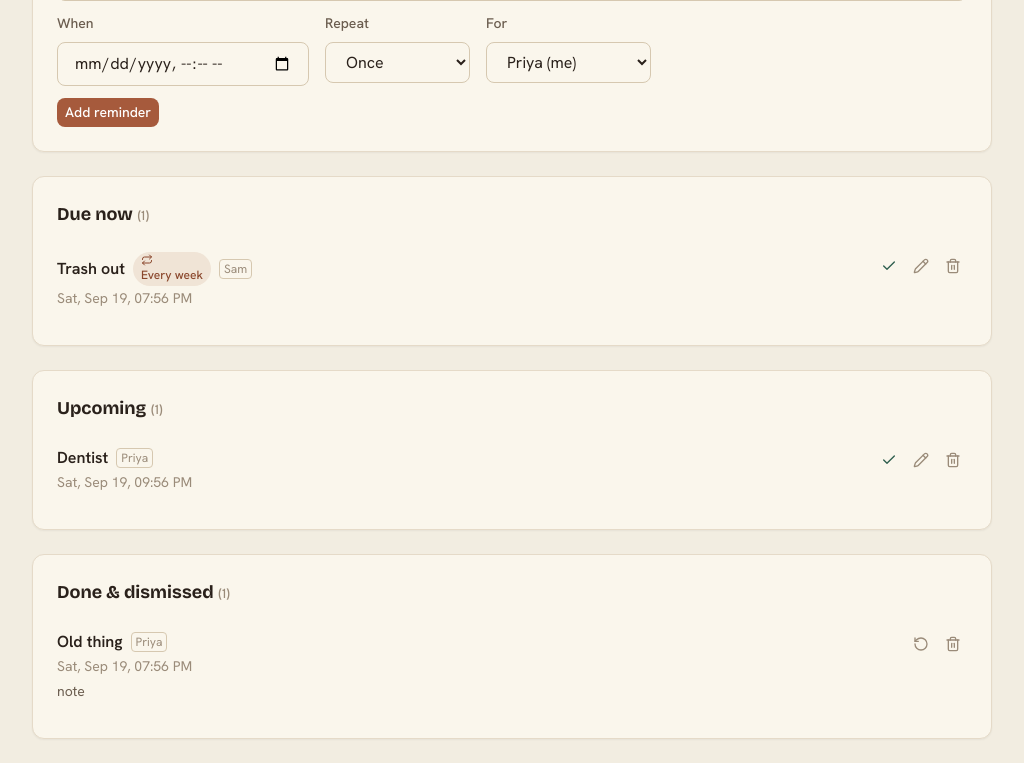
Test: RemindersPage › row actions › cancels an inline edit
(page scrolled)
Click the button named "Edit" in the row of "Dentist".
click(921, 460)  # box [907, 446, 935, 474]
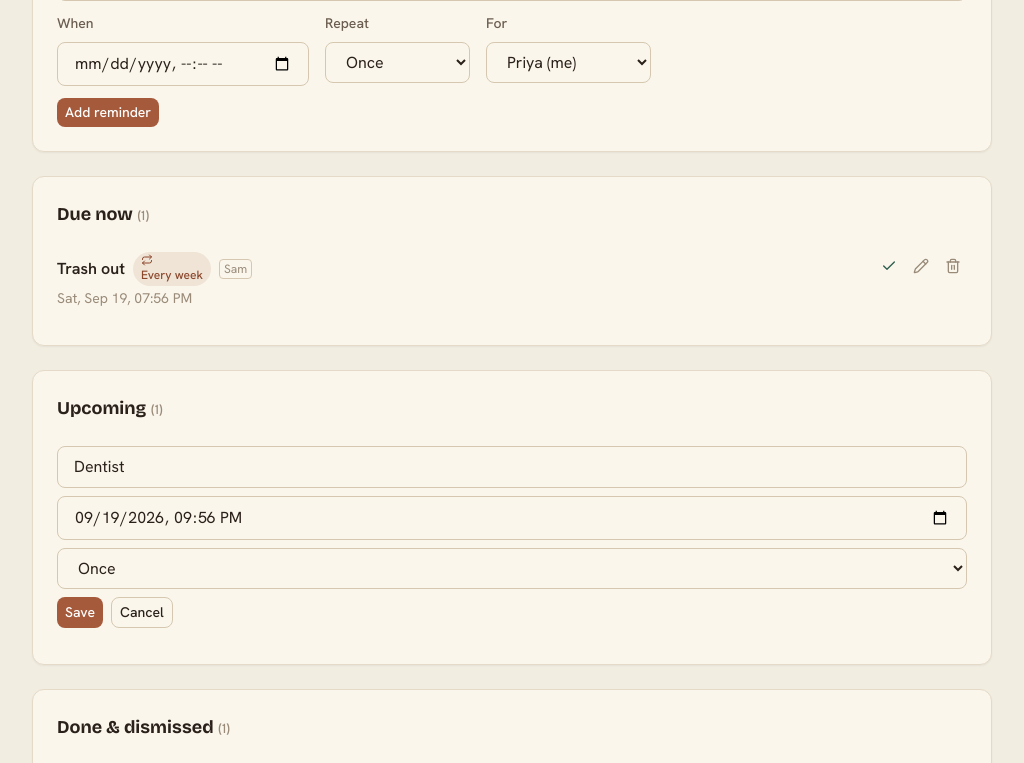
Click the button "Cancel".
click(142, 612)  # box [111, 597, 173, 628]
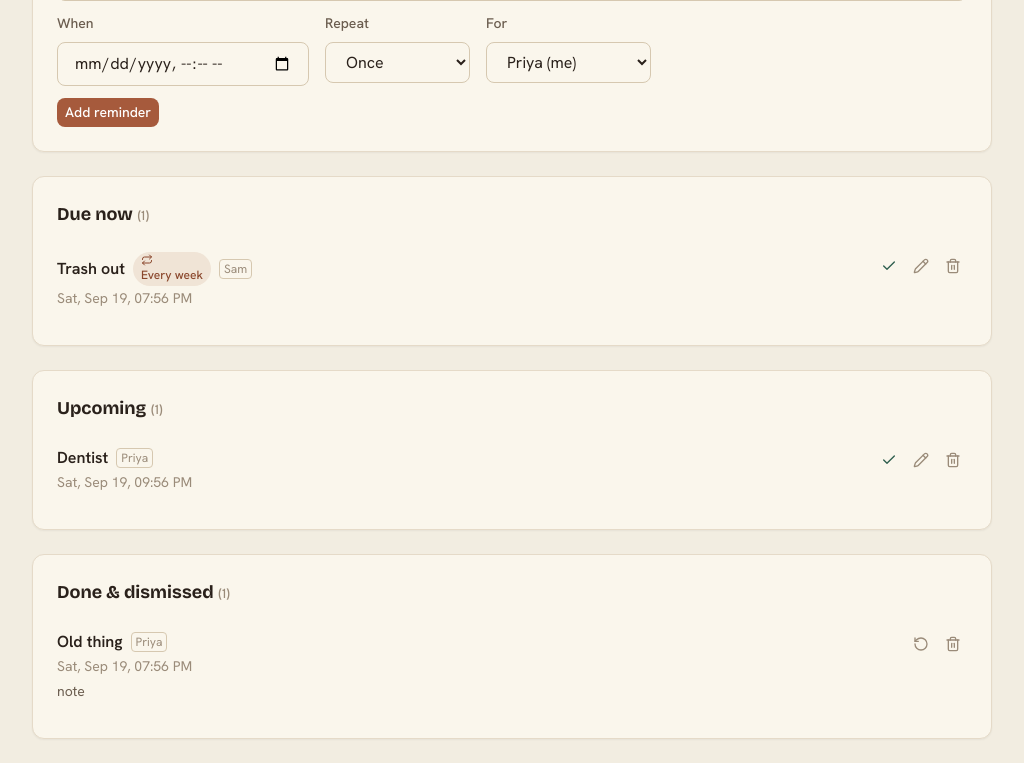
Result: the button "Save" is gone
Result: the text "Dentist" is shown at [57, 446, 108, 470]
